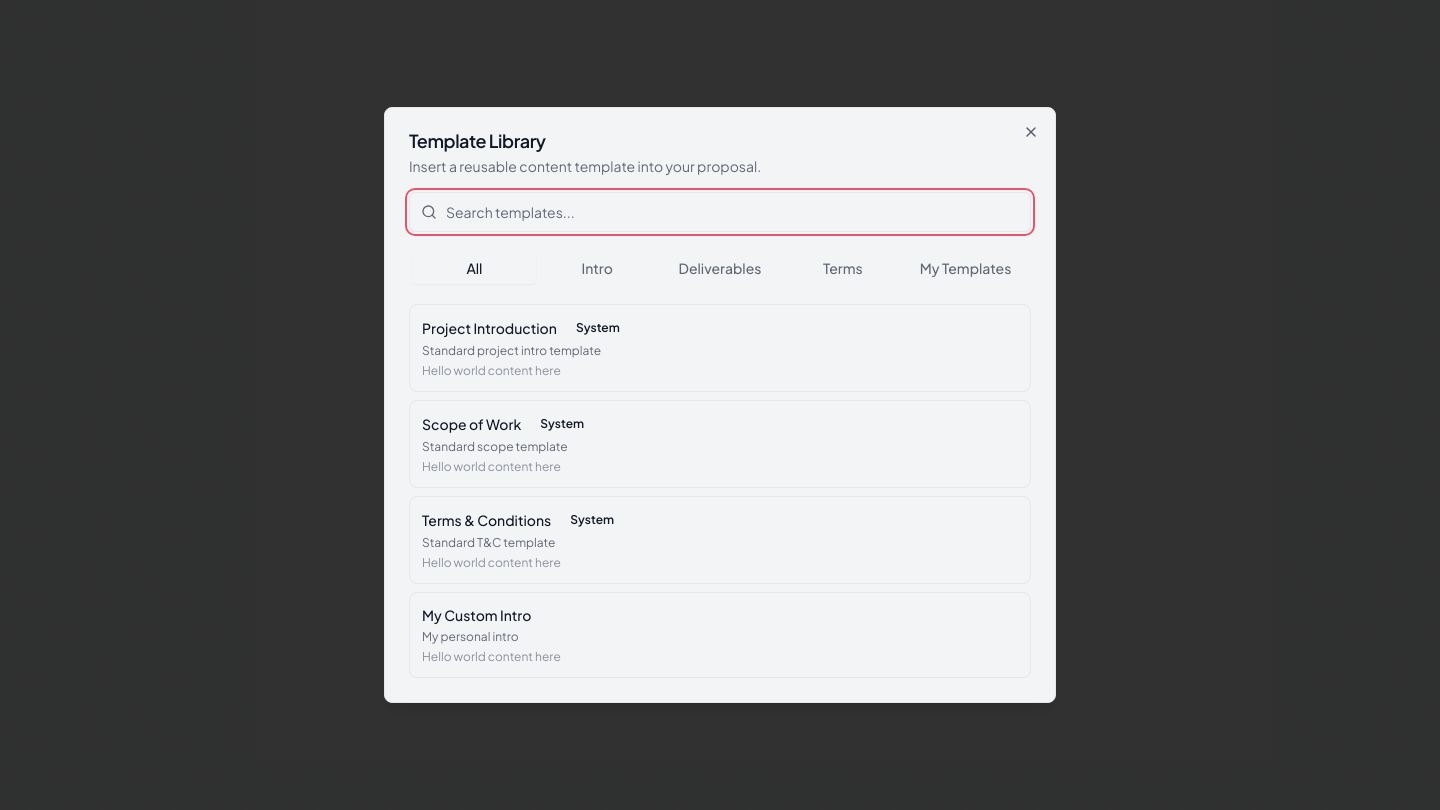
Test: TemplateLibrary › shows "My Templates" tab with user templates only
Click the tab "My Templates".
click(966, 268)  # box [904,252,1027,284]
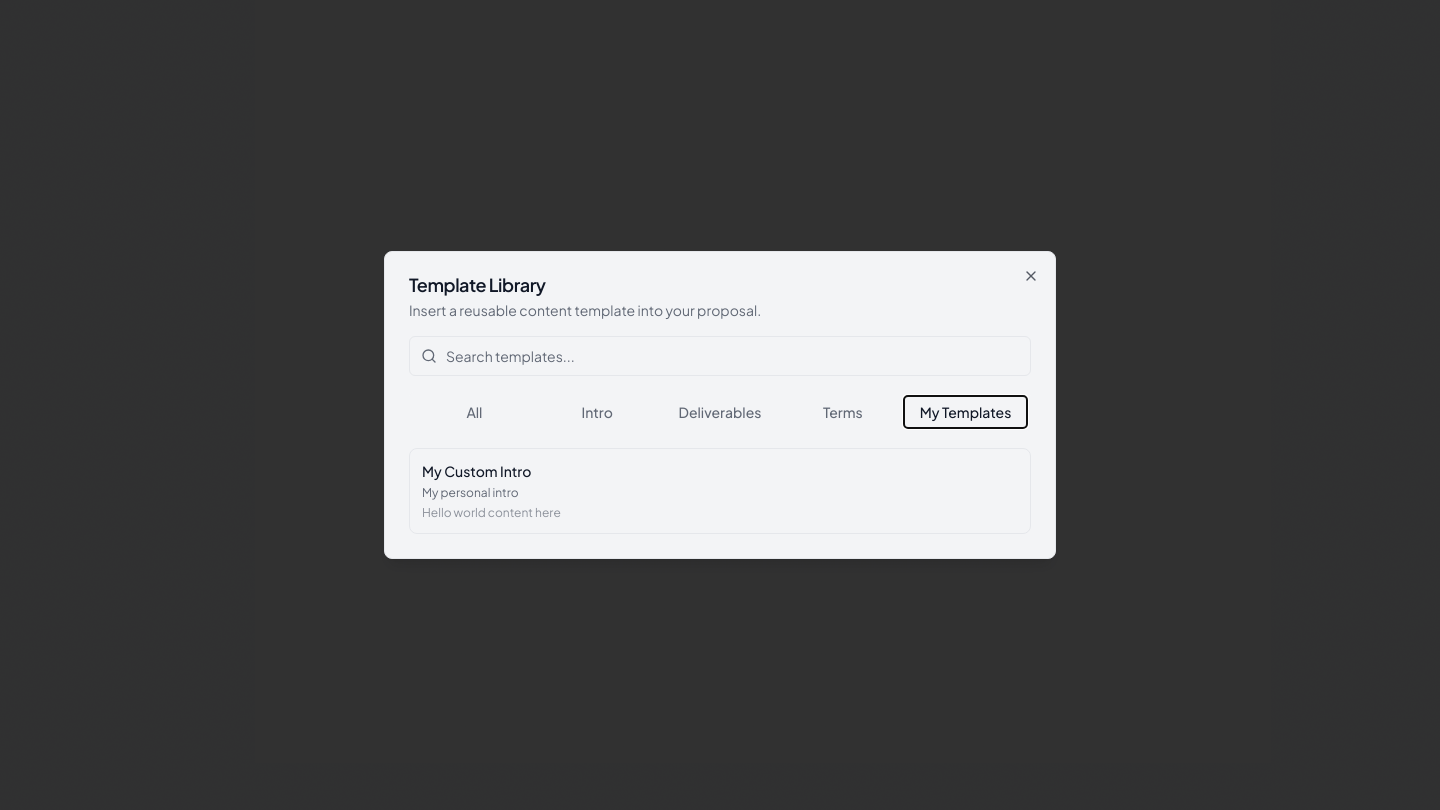
Check: the text "My Custom Intro" is shown, box [422,461,531,481]
Check: the button "Project Introduction" is gone
